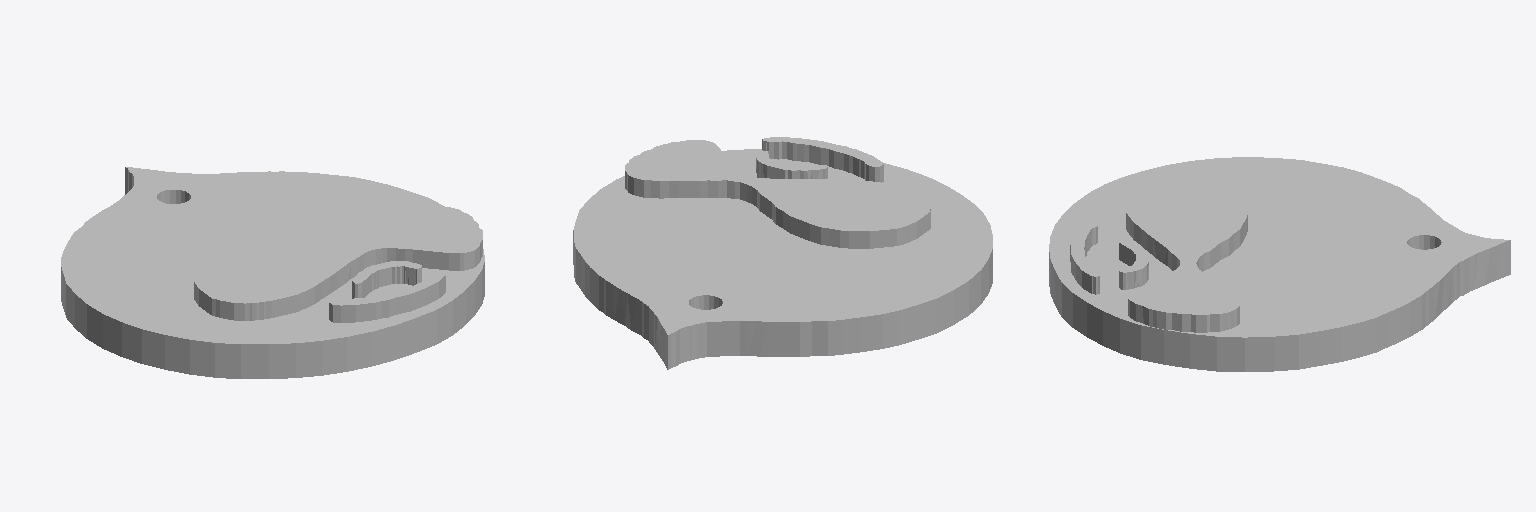
Rendered from Druplicon Keychain.obj.
3 renders of one model, left to right at view 1: azimuth 30°, elevation 25°; view 2: azimuth 150°, elevation 25°; view 3: azimuth 270°, elevation 25°, orthographic.
Parts seen in each view (by area): view 1: druplicon_Keychain; view 2: druplicon_Keychain; view 3: druplicon_Keychain.
Boxes of the visible parts, box(x1,y1,x2,y2) form: druplicon_Keychain: box(61, 167, 484, 378); druplicon_Keychain: box(573, 137, 992, 369); druplicon_Keychain: box(1049, 157, 1510, 371).
Bounding box in the file's own units: 37 × 5 × 40.